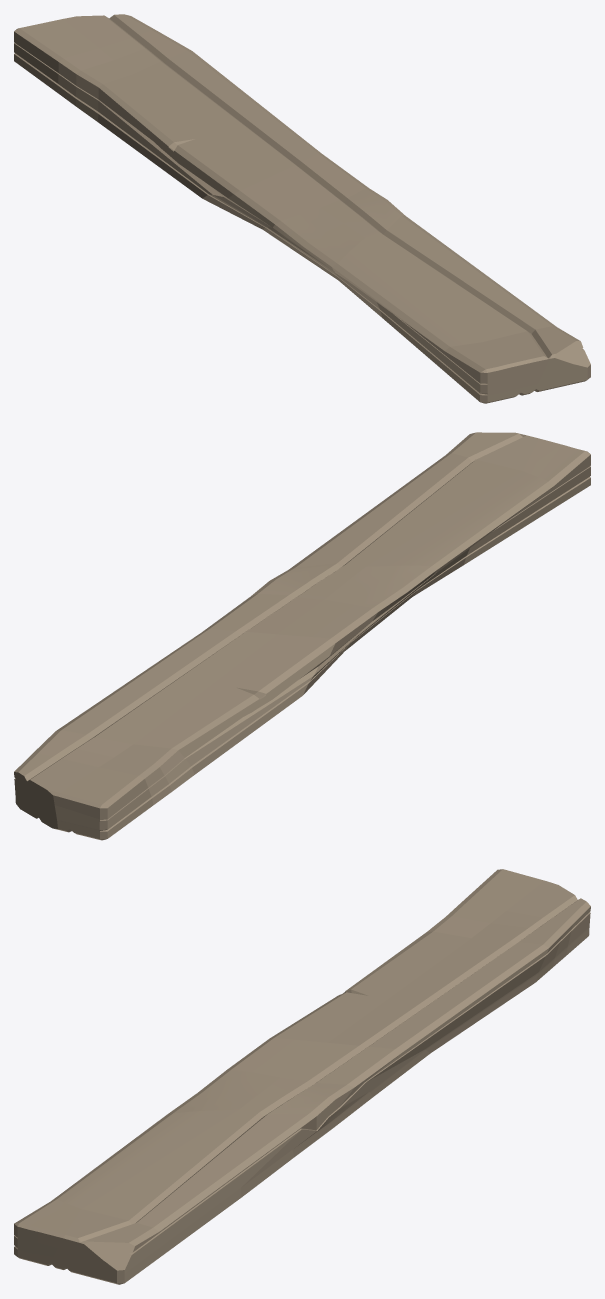
File: planche01.fbx
3 views of the same model, one above another, from view 1: azimuth 30°, elevation 25°; view 2: azimuth 150°, elevation 25°; view 3: azimuth 330°, elevation 25° (orthographic). The views are drawn at different scales.
Visible parts, largest first — view 1: planche01; view 2: planche01; view 3: planche01.
Boxes of the visible parts, bbox=[...] form: planche01: bbox=[14, 14, 590, 403]; planche01: bbox=[14, 432, 590, 840]; planche01: bbox=[14, 869, 590, 1284].
Bounding box in the file's own units: 4.42 × 1.29 × 31.65.
